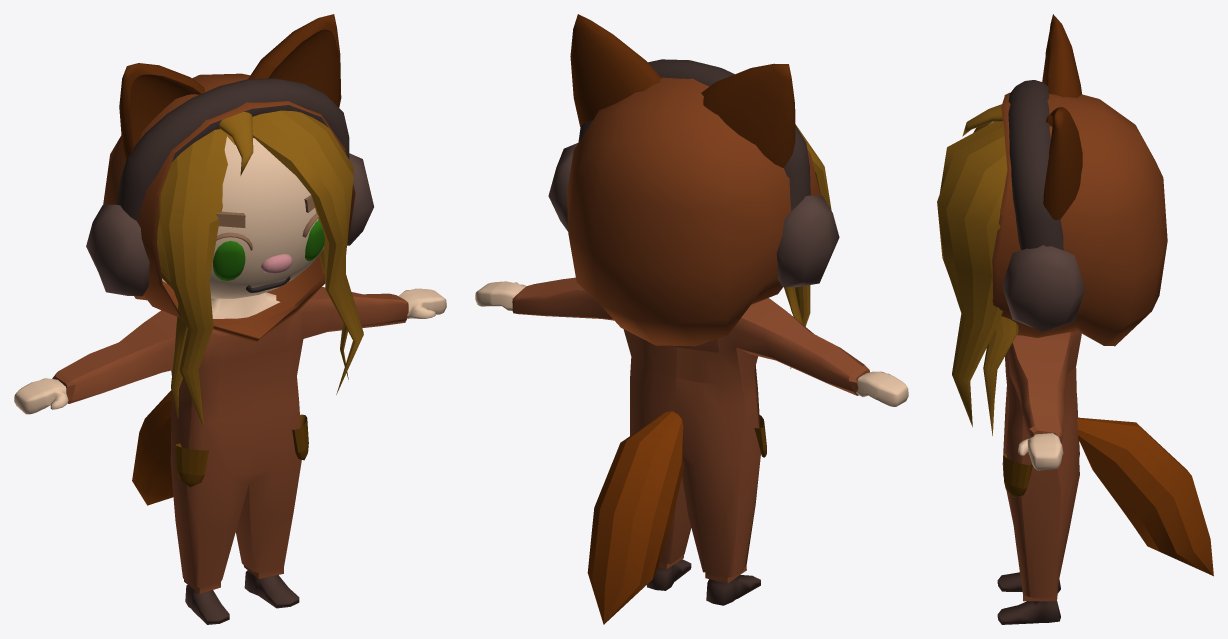
File: NillieZelPyjama.fbx
The picture shows the model from 3 angles, left to right: view 1: azimuth 30°, elevation 25°; view 2: azimuth 150°, elevation 25°; view 3: azimuth 270°, elevation 25°; orthographic projection. The views are drawn at different scales.
Visible parts, largest first — view 1: mod_pyjama2, mod_hair, obj_tete, mod_capuche, mod_casque, mod_oreille, mod_casque_oreille, obj_eye; view 2: mod_pyjama2, mod_capuche, mod_oreille, mod_casque_oreille, mod_casque, mod_hair; view 3: mod_pyjama2, mod_capuche, mod_hair, mod_casque, mod_casque_oreille, mod_oreille.
Part boxes in pixels (bbox=[...]): mod_pyjama2: bbox=[14, 287, 446, 624]; mod_hair: bbox=[157, 110, 363, 427]; obj_tete: bbox=[162, 136, 323, 298]; mod_capuche: bbox=[103, 73, 355, 342]; mod_casque: bbox=[116, 78, 349, 220]; mod_oreille: bbox=[119, 14, 341, 161]; mod_casque_oreille: bbox=[86, 153, 373, 296]; obj_eye: bbox=[213, 213, 324, 280]; mod_pyjama2: bbox=[475, 277, 908, 624]; mod_capuche: bbox=[567, 77, 820, 346]; mod_oreille: bbox=[570, 14, 795, 167]; mod_casque_oreille: bbox=[548, 143, 839, 287]; mod_casque: bbox=[578, 59, 810, 210]; mod_hair: bbox=[784, 124, 831, 368]; mod_pyjama2: bbox=[997, 331, 1213, 624]; mod_capuche: bbox=[992, 92, 1167, 346]; mod_hair: bbox=[937, 104, 1018, 435]; mod_casque: bbox=[1008, 80, 1063, 250]; mod_casque_oreille: bbox=[1002, 245, 1084, 332]; mod_oreille: bbox=[1042, 14, 1082, 219].
Size of the model in its own units: 1.34 by 1.67 by 0.7744.
